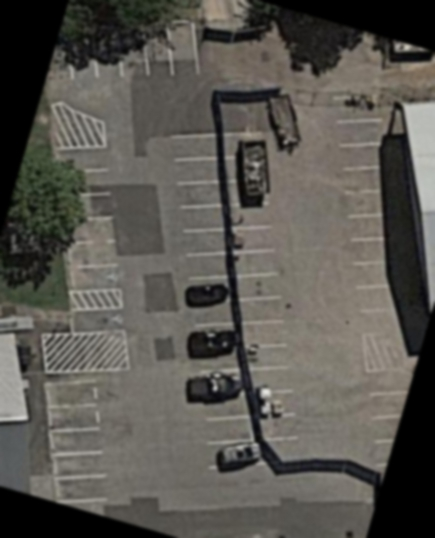parkingspot: (167, 130, 262, 470), (329, 92, 415, 316), (227, 199, 299, 394), (53, 143, 125, 294), (43, 375, 113, 507), (62, 19, 204, 83), (363, 366, 416, 469), (69, 305, 130, 335), (256, 411, 304, 442)
